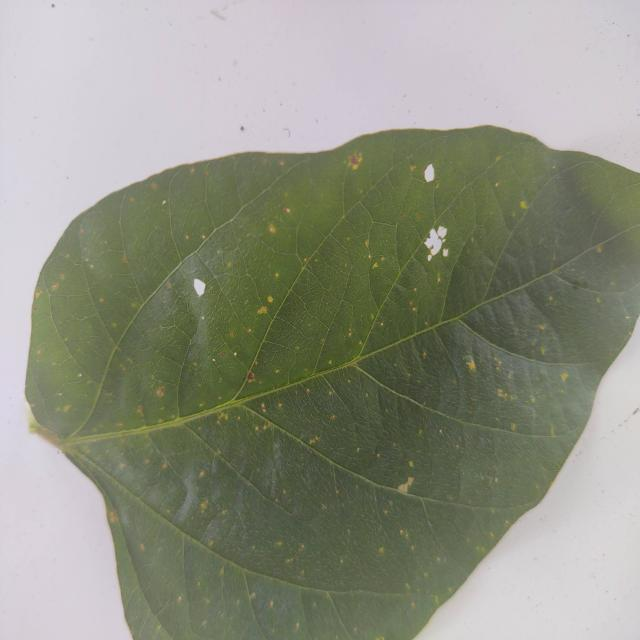Soybean: (23, 125, 640, 640)
downey_mildew: (237, 363, 406, 498), (421, 322, 603, 445), (182, 160, 305, 314), (312, 469, 448, 592), (186, 415, 321, 529), (398, 131, 551, 227), (178, 246, 275, 393), (126, 216, 243, 336), (438, 407, 578, 506), (103, 485, 190, 635), (468, 154, 550, 311), (112, 271, 199, 406), (90, 431, 195, 536), (463, 275, 578, 359), (512, 220, 639, 296), (62, 301, 134, 433), (385, 327, 473, 433), (114, 171, 182, 294), (180, 536, 260, 639), (43, 261, 108, 371), (408, 399, 580, 440), (219, 359, 339, 416), (350, 154, 458, 216), (234, 151, 306, 242), (281, 251, 341, 349), (580, 174, 640, 271), (182, 440, 239, 533), (362, 478, 510, 512), (370, 257, 423, 348), (247, 575, 313, 639), (295, 582, 368, 639), (412, 135, 475, 199), (356, 165, 405, 242), (168, 161, 203, 267), (431, 161, 440, 239)
